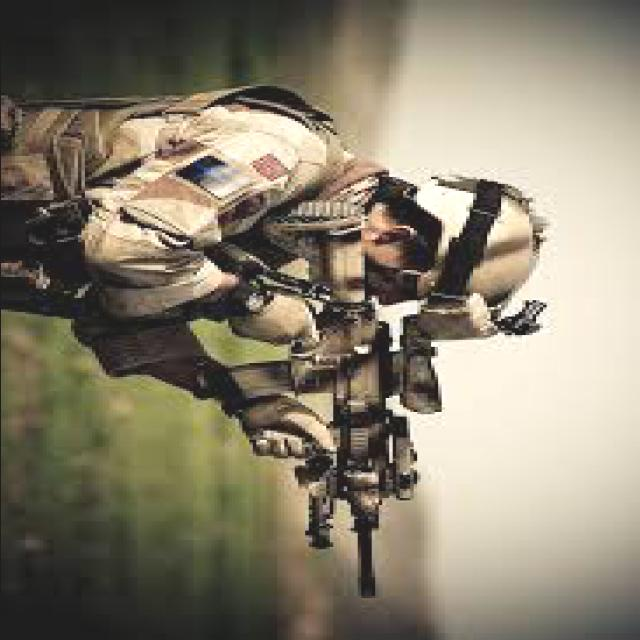long weapon: (224, 190, 467, 600)
